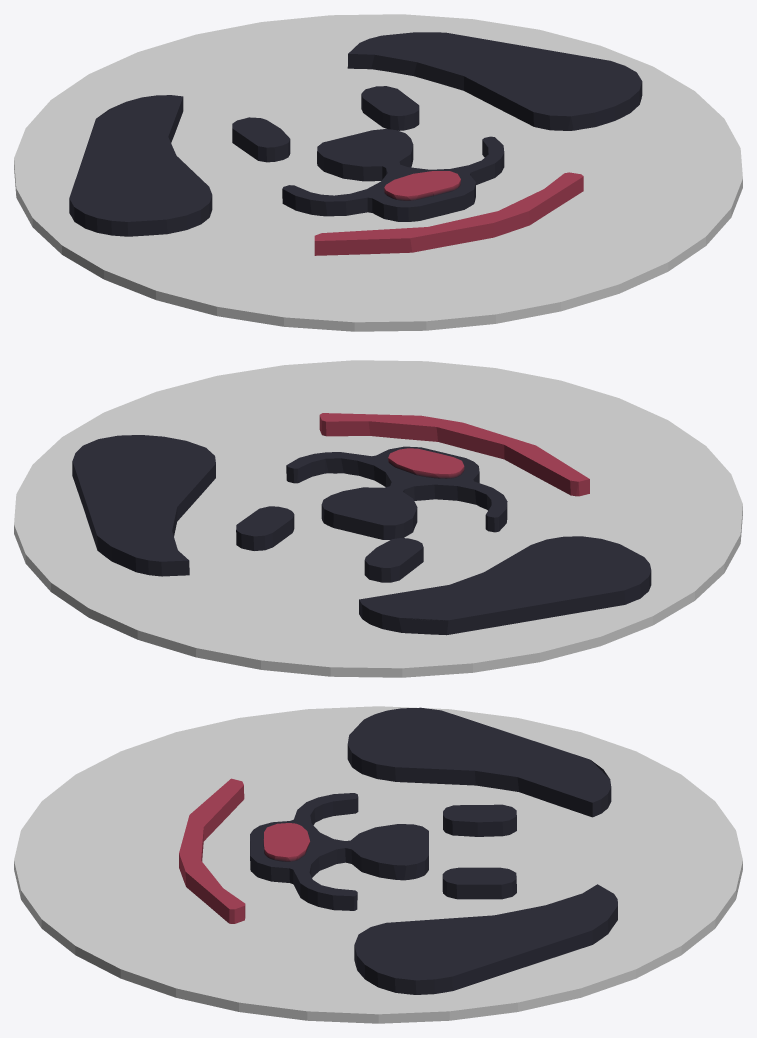
The model's file is HoundsOld.glb.
3 views of the same model, one above another, from view 1: azimuth 30°, elevation 25°; view 2: azimuth 150°, elevation 25°; view 3: azimuth 270°, elevation 25° (orthographic).
Visible parts, largest first — view 1: Curve.001; view 2: Curve.001; view 3: Curve.001.
Part boxes in pixels (x1,y1,x2,y2): Curve.001: [14, 14, 742, 331]; Curve.001: [14, 360, 742, 677]; Curve.001: [14, 706, 742, 1023].
Size of the model in its own units: 0.14 by 0.0094 by 0.14.
